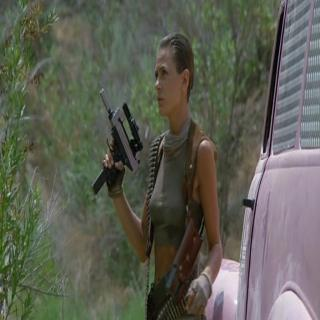gun: (89, 78, 144, 198)
